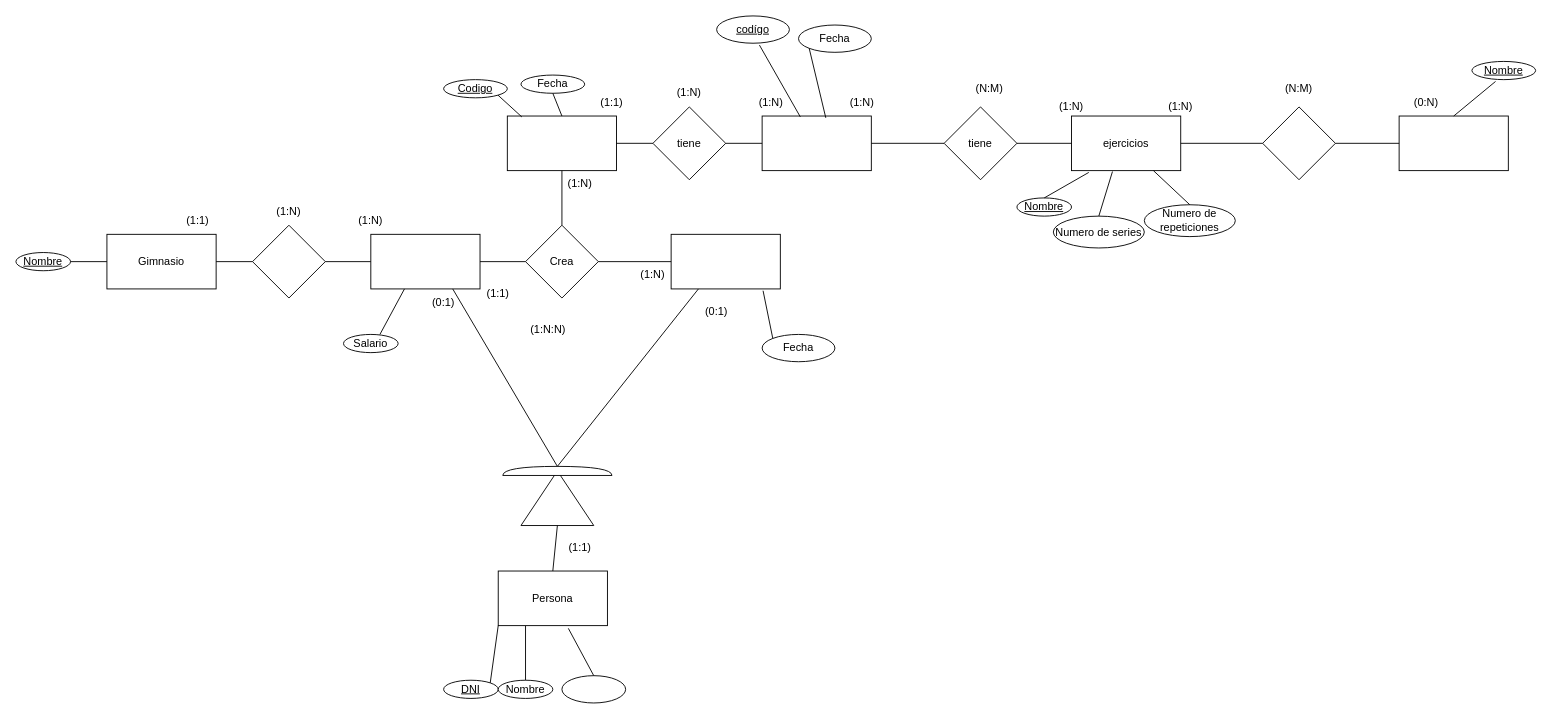
Some shapes in this 1552 by 719 pixel diagram are drawn without their labels. The centre of each missing label's shape, as x and y in pixels:
"cliente" goes at pixel 725 261.
"Entrenador" goes at pixel 425 261.
"Entrenamiento" goes at pixel 816 143.
"material" goes at pixel 1453 143.
"planificación" goes at pixel 561 143.
"Primer apellido" goes at pixel 593 689.
"Trabaja" goes at pixel 288 261.
"Utiliza" goes at pixel 1298 143.
